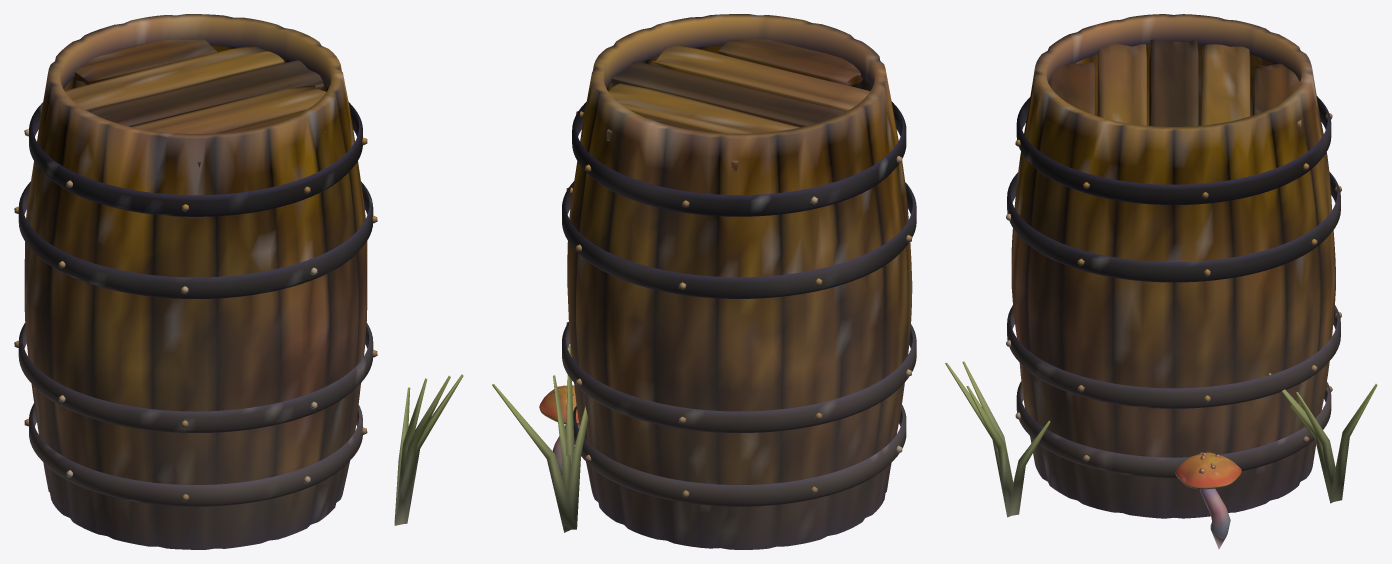
File: fici.glb
3 views of the same model, side by side, from view 1: azimuth 30°, elevation 25°; view 2: azimuth 150°, elevation 25°; view 3: azimuth 270°, elevation 25° (orthographic). The views are drawn at different scales.
Visible parts, largest first — view 1: fici_LOD0; view 2: fici_LOD0; view 3: fici_LOD0.
Boxes of the visible parts, x1=… form: fici_LOD0: x1=14, y1=14, x2=463, y2=549; fici_LOD0: x1=492, y1=14, x2=916, y2=549; fici_LOD0: x1=945, y1=14, x2=1377, y2=549.
Size of what is drawn, in the model's own units: 0.806 by 1 by 0.9622.
